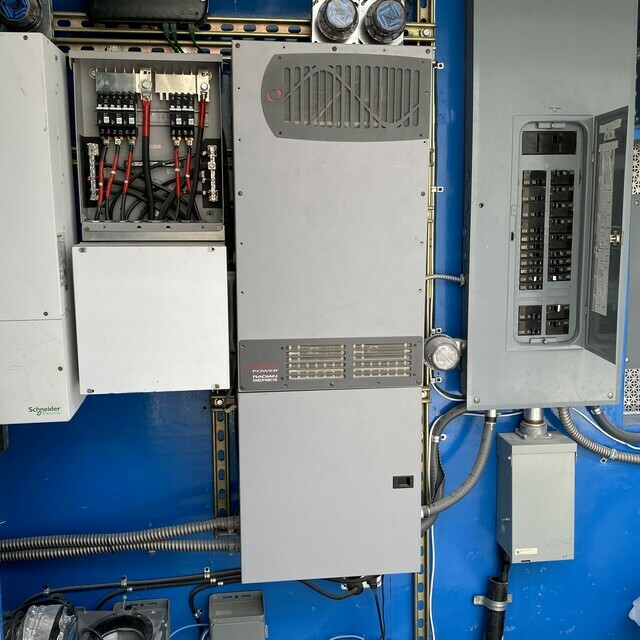inverter: (230, 29, 436, 589)
